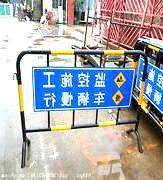sign: (21, 54, 139, 122)
